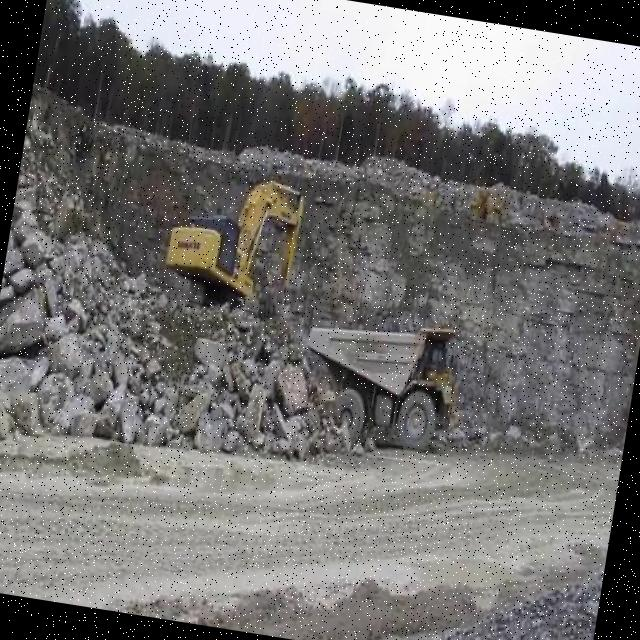Dump Truck: (285, 306, 465, 460)
Excavator: (152, 159, 307, 331)
